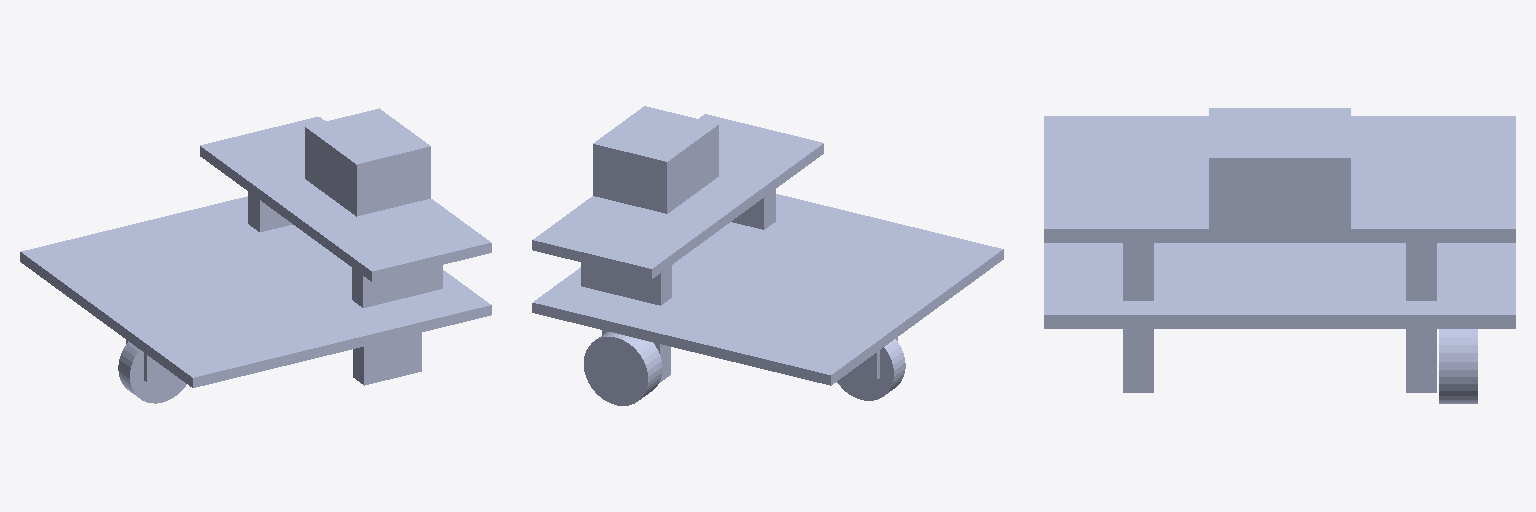
URDF robot description (mvpcrane):
<robot
  name="mvpcrane">
  <link
    name="base_link">
    <inertial>
      <origin
        xyz="0.0507117835790473 1.47451495458029E-17 0.0268762105129842"
        rpy="0 0 0" />
      <mass
        value="1.90627005747125" />
      <inertia
        ixx="0.0153580852373972"
        ixy="-3.86425952329233E-18"
        ixz="-0.00275171992820305"
        iyy="0.0151689877403363"
        iyz="-1.96014604987705E-18"
        izz="0.0241891871044715" />
    </inertial>
    <visual>
      <origin
        xyz="0 0 0"
        rpy="0 0 0" />
      <geometry>
        <mesh
          filename="package://me212base/model/meshes/visual/mvpcrane/base_link.stl" />
      </geometry>
      <material
        name="">
        <color
          rgba="0.792156862745098 0.819607843137255 0.933333333333333 1" />
      </material>
    </visual>
    <collision>
      <origin
        xyz="0 0 0"
        rpy="0 0 0" />
      <geometry>
        <mesh
          filename="package://me212base/model/meshes/visual/mvpcrane/base_link.stl" />
      </geometry>
    </collision>
  </link>
  <link
    name="rwheel_link">
    <inertial>
      <origin
        xyz="5.55111512312578E-17 0 0"
        rpy="0 0 0" />
      <mass
        value="0.0829576810088555" />
      <inertia
        ixx="2.62267251939455E-05"
        ixy="-4.10376130191917E-38"
        ixz="0"
        iyy="4.38120252828018E-05"
        iyz="-6.51271857308242E-38"
        izz="2.62267251939454E-05" />
    </inertial>
    <visual>
      <origin
        xyz="0 0 0"
        rpy="0 0 0" />
      <geometry>
        <mesh
          filename="package://me212base/model/meshes/visual/mvpcrane/rwheel_link.stl" />
      </geometry>
      <material
        name="">
        <color
          rgba="0.792156862745098 0.819607843137255 0.933333333333333 1" />
      </material>
    </visual>
    <collision>
      <origin
        xyz="0 0 0"
        rpy="0 0 0" />
      <geometry>
        <mesh
          filename="package://me212base/model/meshes/visual/mvpcrane/rwheel_link.stl" />
      </geometry>
    </collision>
  </link>
  <joint
    name="rwheel_joint"
    type="continuous">
    <origin
      xyz="0.08 -0.1135 -0.0545"
      rpy="0 0 3.70074341541719E-16" />
    <parent
      link="base_link" />
    <child
      link="rwheel_link" />
    <axis
      xyz="0 1 0" />
  </joint>
  <link
    name="lwheel_link">
    <inertial>
      <origin
        xyz="0 0 0"
        rpy="0 0 0" />
      <mass
        value="0.0829576810088555" />
      <inertia
        ixx="2.62267251939455E-05"
        ixy="-7.07229507600784E-22"
        ixz="2.11758236813575E-22"
        iyy="4.38120252828018E-05"
        iyz="-3.48215852980651E-24"
        izz="2.62267251939455E-05" />
    </inertial>
    <visual>
      <origin
        xyz="0 0 0"
        rpy="0 0 0" />
      <geometry>
        <mesh
          filename="package://me212base/model/meshes/visual/mvpcrane/lwheel_link.stl" />
      </geometry>
      <material
        name="">
        <color
          rgba="0.792156862745098 0.819607843137255 0.933333333333333 1" />
      </material>
    </visual>
    <collision>
      <origin
        xyz="0 0 0"
        rpy="0 0 0" />
      <geometry>
        <mesh
          filename="package://me212base/model/meshes/visual/mvpcrane/lwheel_link.stl" />
      </geometry>
    </collision>
  </link>
  <joint
    name="lwheel_joint"
    type="continuous">
    <origin
      xyz="0.0799999999999998 0.1135 -0.0545"
      rpy="0 0.0673424314711914 3.70074341541719E-16" />
    <parent
      link="base_link" />
    <child
      link="lwheel_link" />
    <axis
      xyz="0 1 0" />
  </joint>
  <link
    name="bwheel_mount_link">
    <inertial>
      <origin
        xyz="0 -3.46944695195361E-18 -0.0226324626865672"
        rpy="0 0 0" />
      <mass
        value="0.0268" />
      <inertia
        ixx="1.31085964241293E-05"
        ixy="8.13934053179257E-22"
        ixz="-8.55422040183102E-22"
        iyy="1.14710964241293E-05"
        iyz="-1.42903905292742E-22"
        izz="8.78416666666666E-06" />
    </inertial>
    <visual>
      <origin
        xyz="0 0 0"
        rpy="0 0 0" />
      <geometry>
        <mesh
          filename="package://me212base/model/meshes/visual/mvpcrane/bwheel_mount_link.stl" />
      </geometry>
      <material
        name="">
        <color
          rgba="0.792156862745098 0.819607843137255 0.933333333333333 1" />
      </material>
    </visual>
    <collision>
      <origin
        xyz="0 0 0"
        rpy="0 0 0" />
      <geometry>
        <mesh
          filename="package://me212base/model/meshes/visual/mvpcrane/bwheel_mount_link.stl" />
      </geometry>
    </collision>
  </link>
  <joint
    name="bwheel_mount_joint"
    type="continuous">
    <origin
      xyz="-0.1 0 -0.00499999999999979"
      rpy="-1.38777878078144E-15 9.86076131526265E-32 3.97829917157348E-16" />
    <parent
      link="base_link" />
    <child
      link="bwheel_mount_link" />
    <axis
      xyz="0 0 1" />
  </joint>
  <link
    name="bwheel_link">
    <inertial>
      <origin
        xyz="0 4.33680868994202E-18 0"
        rpy="0 0 0" />
      <mass
        value="0.0663661448070844" />
      <inertia
        ixx="1.97370149400235E-05"
        ixy="-1.47362444040855E-22"
        ixz="1.31655367292096E-36"
        iyy="3.50496202262414E-05"
        iyz="7.91235252580677E-37"
        izz="1.97370149400235E-05" />
    </inertial>
    <visual>
      <origin
        xyz="0 0 0"
        rpy="0 0 0" />
      <geometry>
        <mesh
          filename="package://me212base/model/meshes/visual/mvpcrane/bwheel_link.stl" />
      </geometry>
      <material
        name="">
        <color
          rgba="0.792156862745098 0.819607843137255 0.933333333333333 1" />
      </material>
    </visual>
    <collision>
      <origin
        xyz="0 0 0"
        rpy="0 0 0" />
      <geometry>
        <mesh
          filename="package://me212base/model/meshes/visual/mvpcrane/bwheel_link.stl" />
      </geometry>
    </collision>
  </link>
  <joint
    name="bwheel_joint"
    type="continuous">
    <origin
      xyz="0 0 -0.0495"
      rpy="1.38777878078144E-15 1.38777878078123E-17 1.47104550762833E-15" />
    <parent
      link="bwheel_mount_link" />
    <child
      link="bwheel_link" />
    <axis
      xyz="0 1 0" />
  </joint>
</robot>

--- What the picture shows (computed from the rendered views, not written in the file) ---
Views: 3 orthographic renders of the robot side by side, from view 1: azimuth 30°, elevation 25°; view 2: azimuth 150°, elevation 25°; view 3: azimuth 270°, elevation 25°.
Robot: mvpcrane — 5 links, 4 joints (4 continuous); root link base_link; default pose: every joint at zero.
Visible links, largest first — view 1: base_link, bwheel_link; view 2: base_link, lwheel_link, bwheel_link; view 3: base_link, lwheel_link.
Boxes of the visible links, box(x1,y1,x2,y2) form: base_link: box(20, 108, 491, 387); bwheel_link: box(118, 341, 186, 403); base_link: box(532, 106, 1003, 385); lwheel_link: box(584, 331, 662, 405); bwheel_link: box(837, 339, 905, 400); base_link: box(1044, 108, 1515, 392); lwheel_link: box(1439, 329, 1477, 403).
Bounding box of the posed robot: 0.3 × 0.3 × 0.202 m (x, y, z).
4 mesh visuals loaded from 5 distinct referenced files (4 binary STL); not drawn: 1 (reference not matched to a file when rendering).